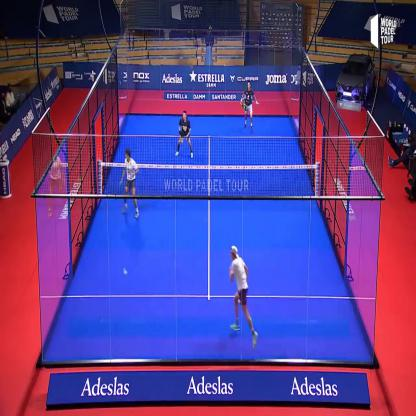ball: (119, 264, 128, 279)
